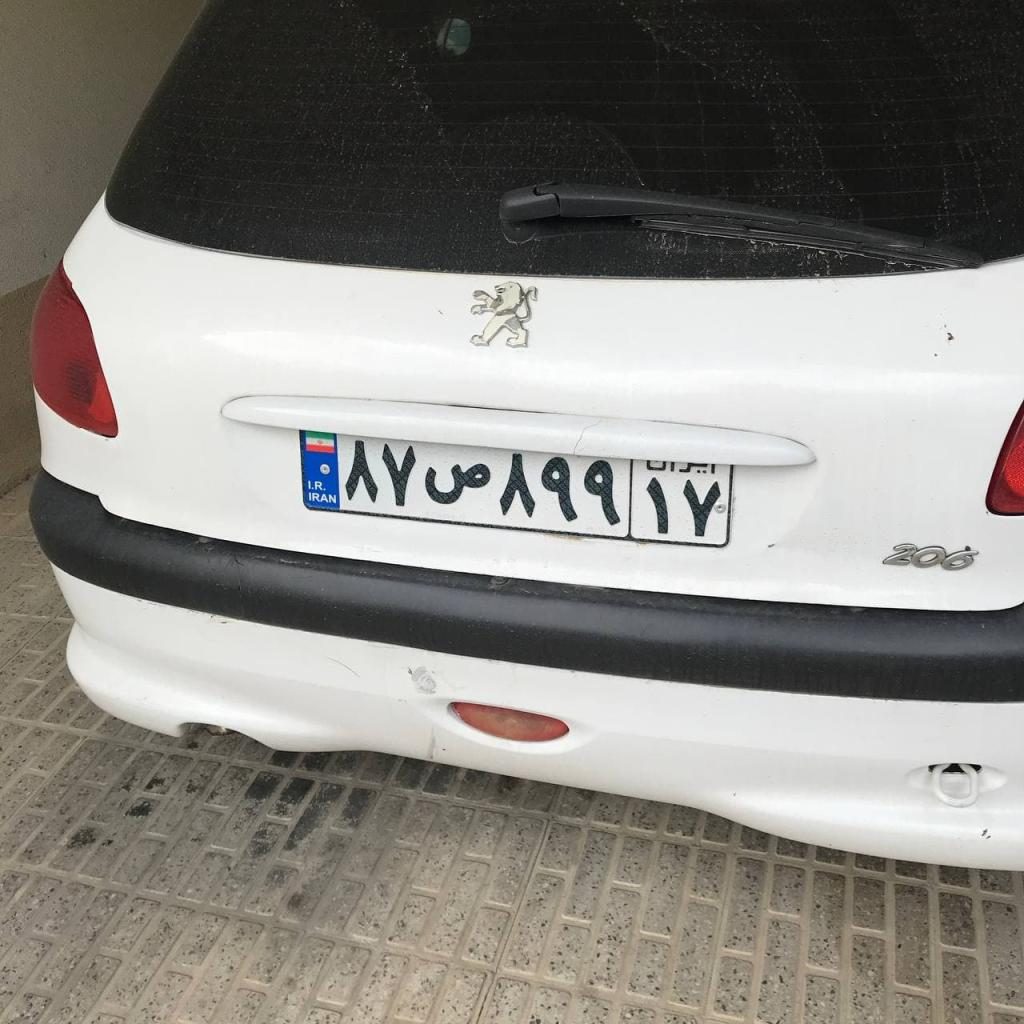Plates: (299, 428, 731, 547)
